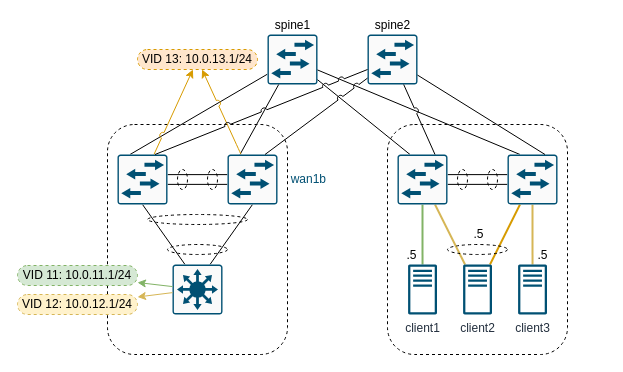
Image size: 623x372. Some labels were removed from this diagram. Each missing label, with the box of its shape:
Compute Pod: (386, 124, 568, 354)
Leaf1a: (396, 154, 448, 204)
Leaf1b: (506, 154, 558, 204)
WAN Pod: (106, 124, 288, 354)
wan1a: (116, 154, 168, 204)
